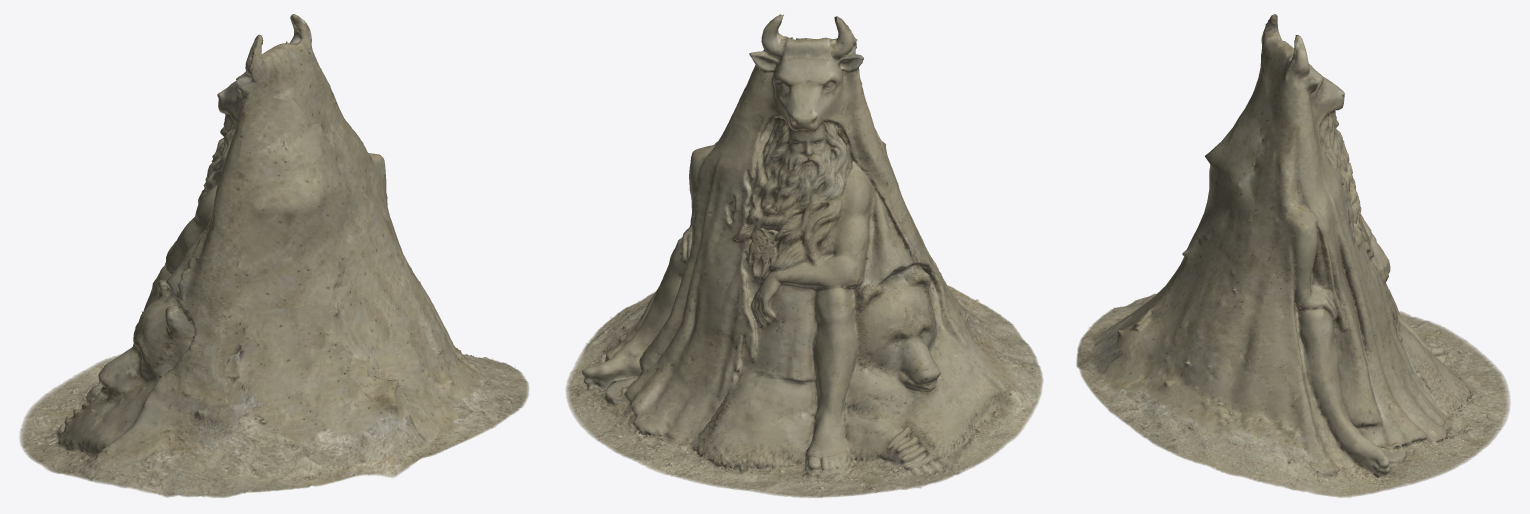
Rendered from veles.glb.
The picture shows the model from 3 angles, left to right: view 1: azimuth 30°, elevation 25°; view 2: azimuth 150°, elevation 25°; view 3: azimuth 270°, elevation 25°; orthographic projection. The views are drawn at different scales.
Parts seen in each view (by area): view 1: Vales_vales_0; view 2: Vales_vales_0; view 3: Vales_vales_0.
Boxes of the visible parts, box(x1,y1,x2,y2) form: Vales_vales_0: box(19, 14, 529, 497); Vales_vales_0: box(565, 14, 1043, 497); Vales_vales_0: box(1076, 14, 1510, 497).
Bounding box in the file's own units: 4.07 × 3.49 × 3.68.
1 material, 1 textured.
